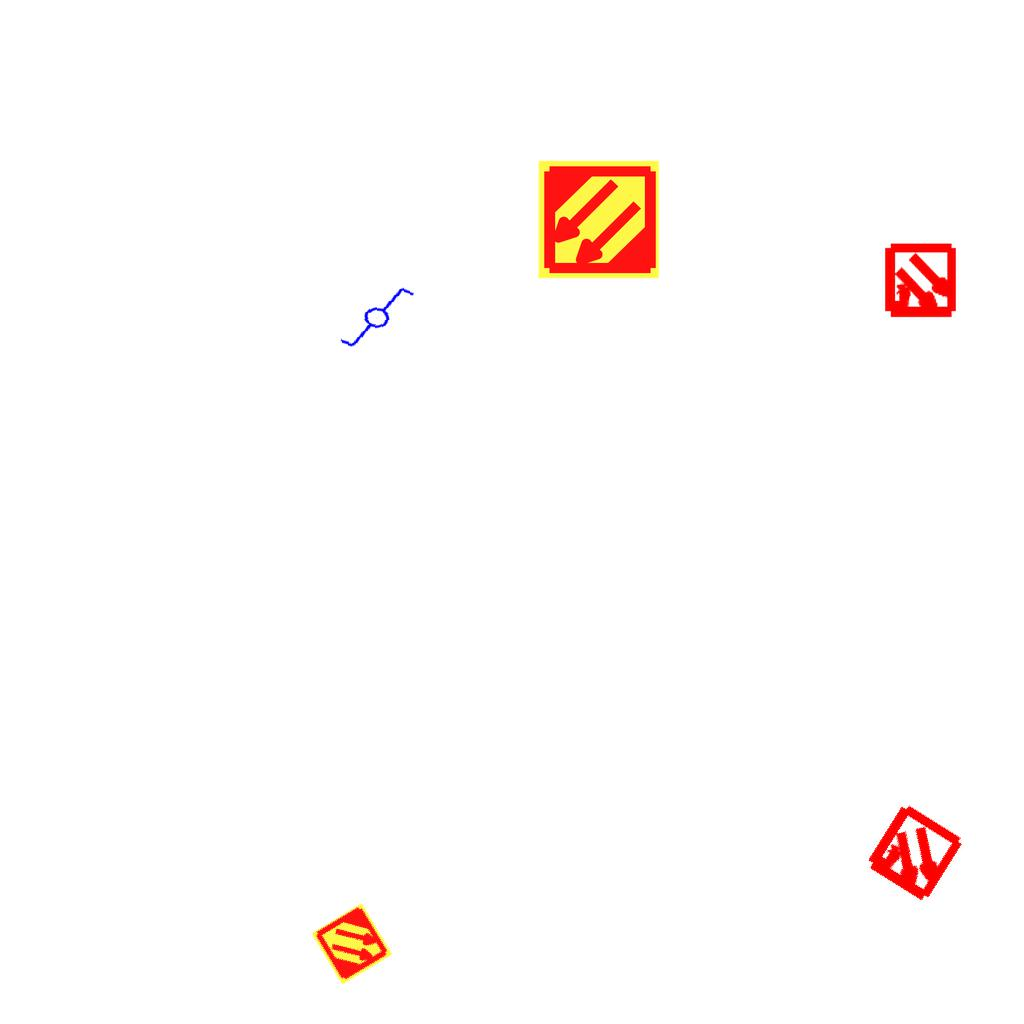ASR_Ansaugrauchmelder: (536, 157, 661, 282), (309, 901, 395, 987)
OT_Multisensormelder_(Kombination_RMO_WMD): (835, 776, 992, 933), (864, 226, 977, 339)
Wechselschalter: (328, 274, 418, 358)
